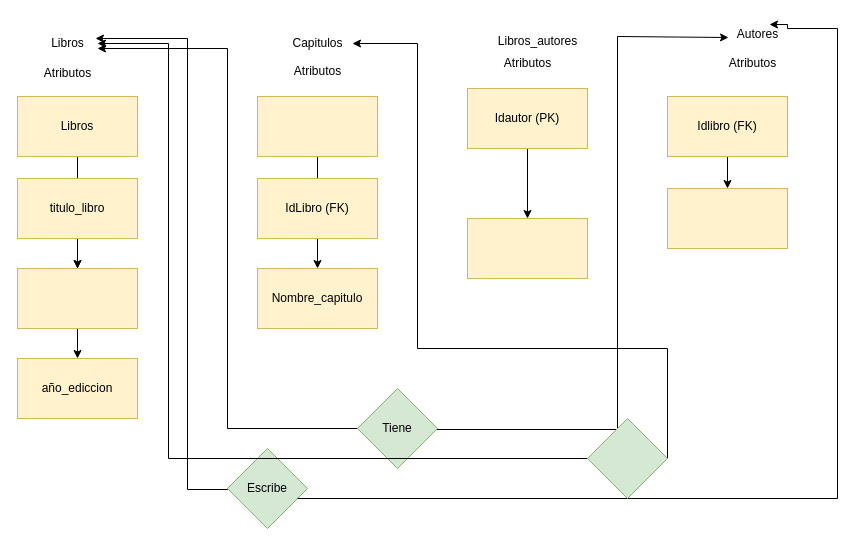
This 863x546 diagram has some shape labels left out. Each missing label, with the box of its shape:
Contiene: (586, 418, 668, 498)
editorial: (16, 268, 138, 328)
Idautor (FK): (666, 188, 788, 248)
IdCspitulo (PK): (256, 96, 378, 156)
Nombre_autor: (466, 218, 588, 278)
